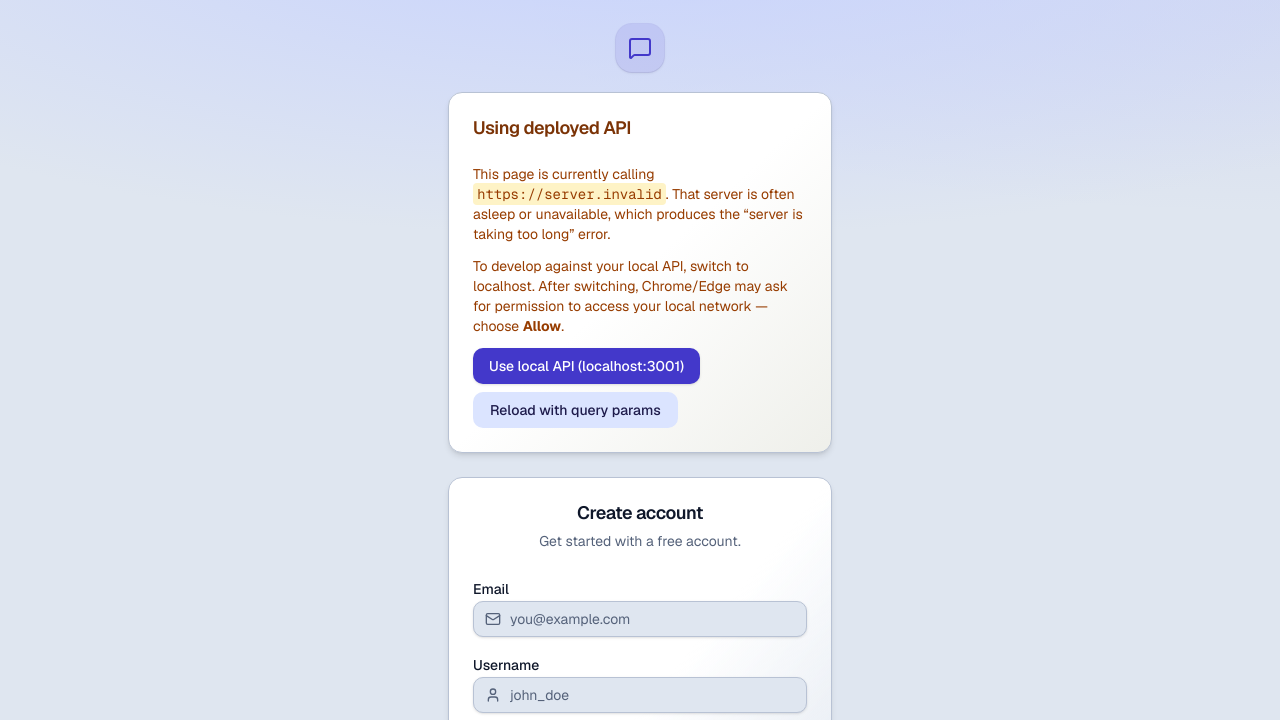
Scenario: RegisterPage › shows backend error and does not redirect
The image size is (1280, 720).
In the field labelled "Email": (640, 619) 473,601 -> 807,637, type "backend@example.com"
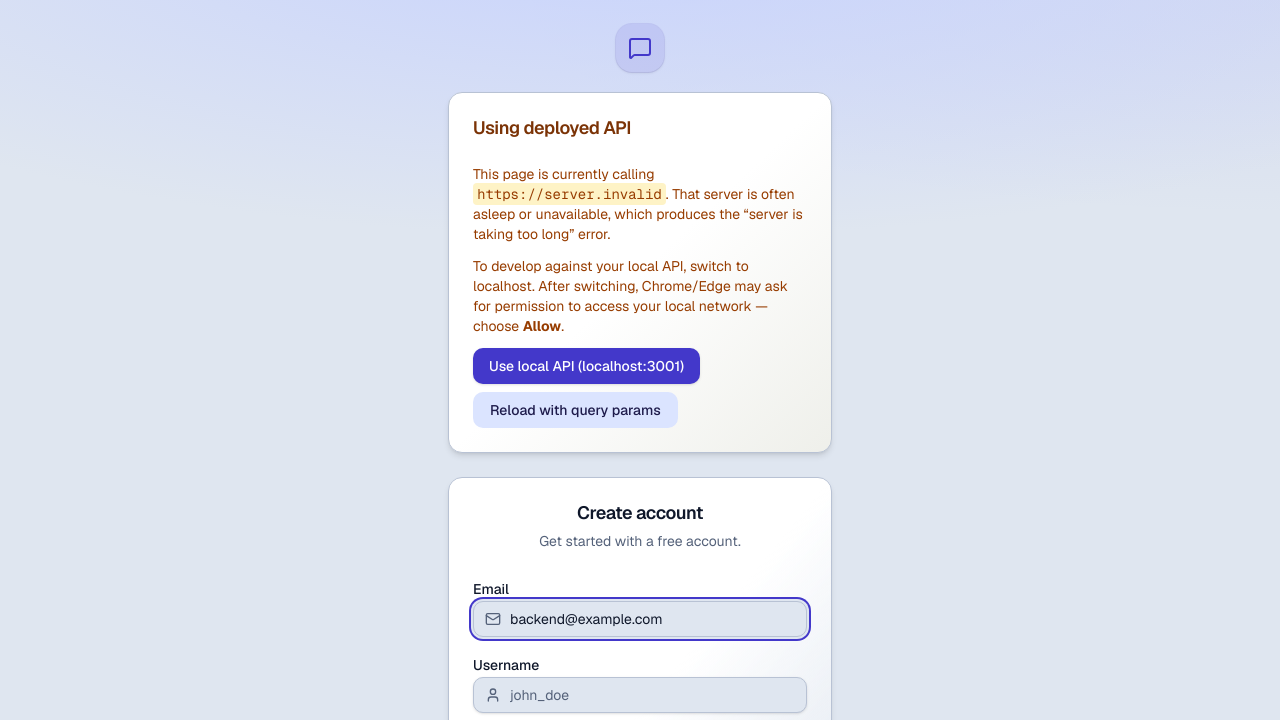
In the field labelled "Username": (640, 695) 473,677 -> 807,713, type "alice"
(page scrolled)
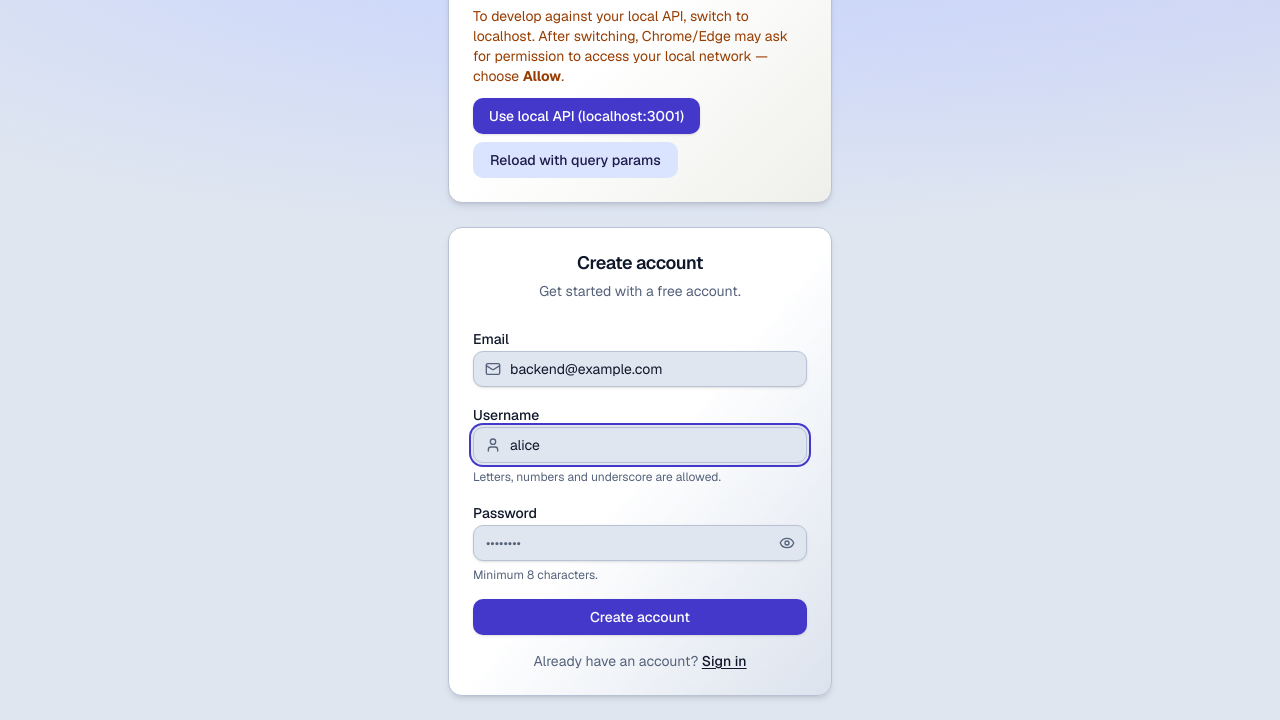
In the password field labelled "Password": (640, 543) 473,525 -> 807,561, type "password123"
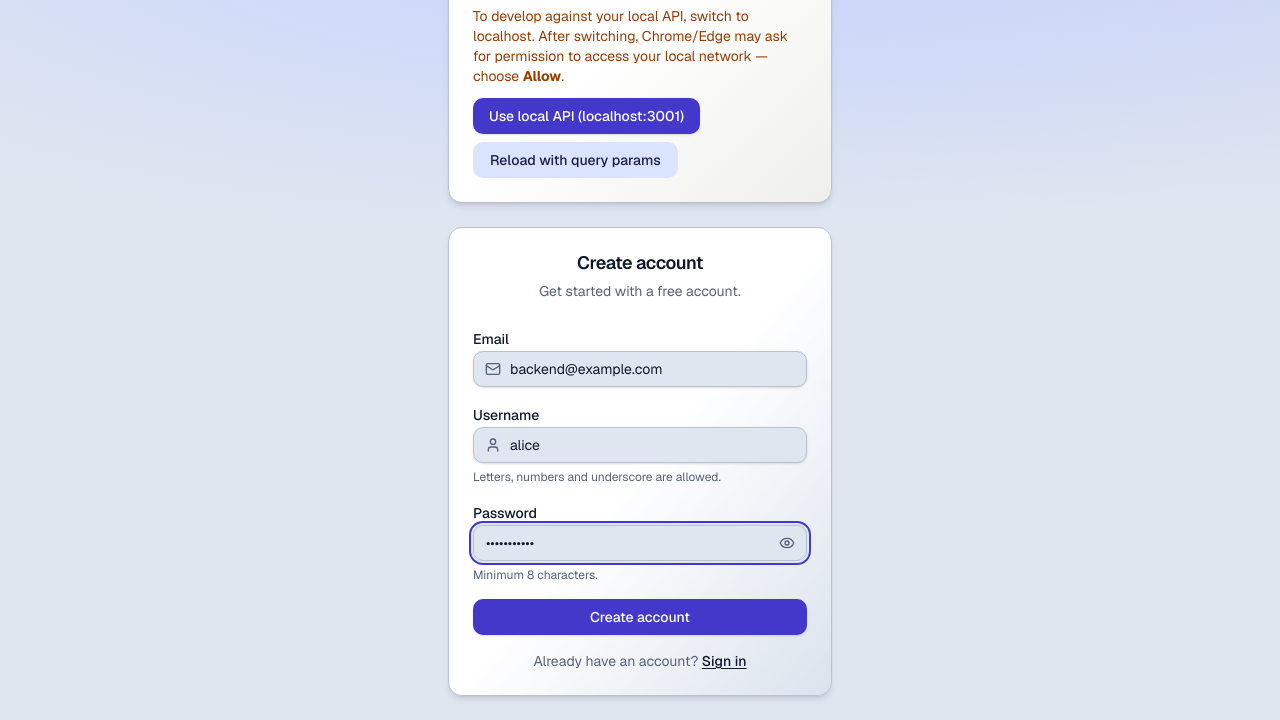
Click the button "Create account": (640, 617) 473,599 -> 807,635
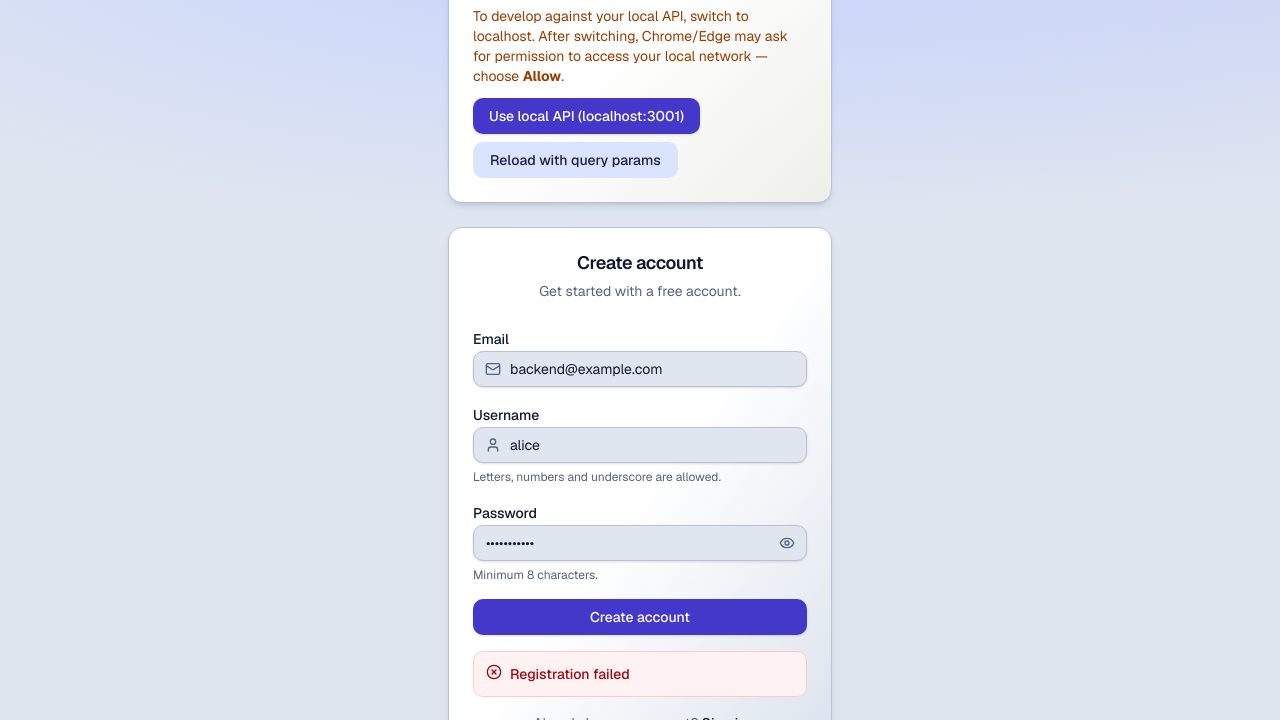
Check: the text "Registration failed" is shown, box 510,665 -> 630,683
